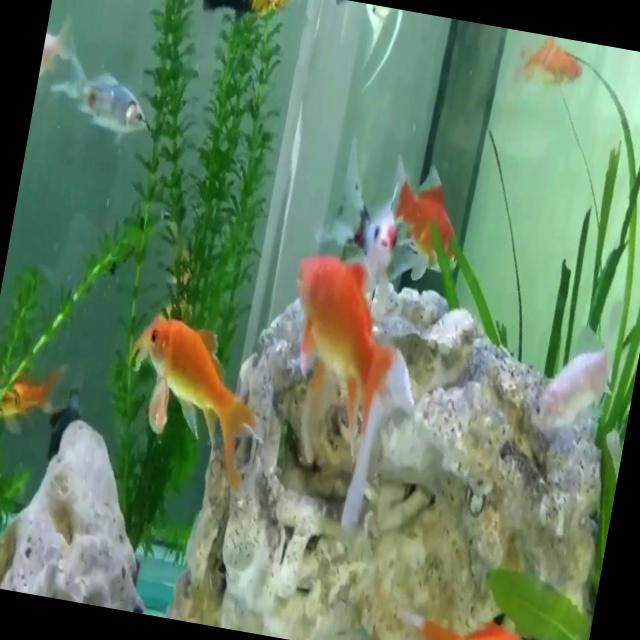GoldFish: (242, 237, 443, 557), (111, 298, 273, 502), (374, 141, 484, 274), (506, 30, 591, 102), (413, 604, 561, 640)
